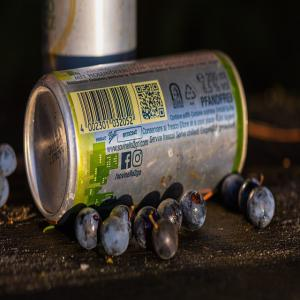Can: (24, 50, 251, 221)
